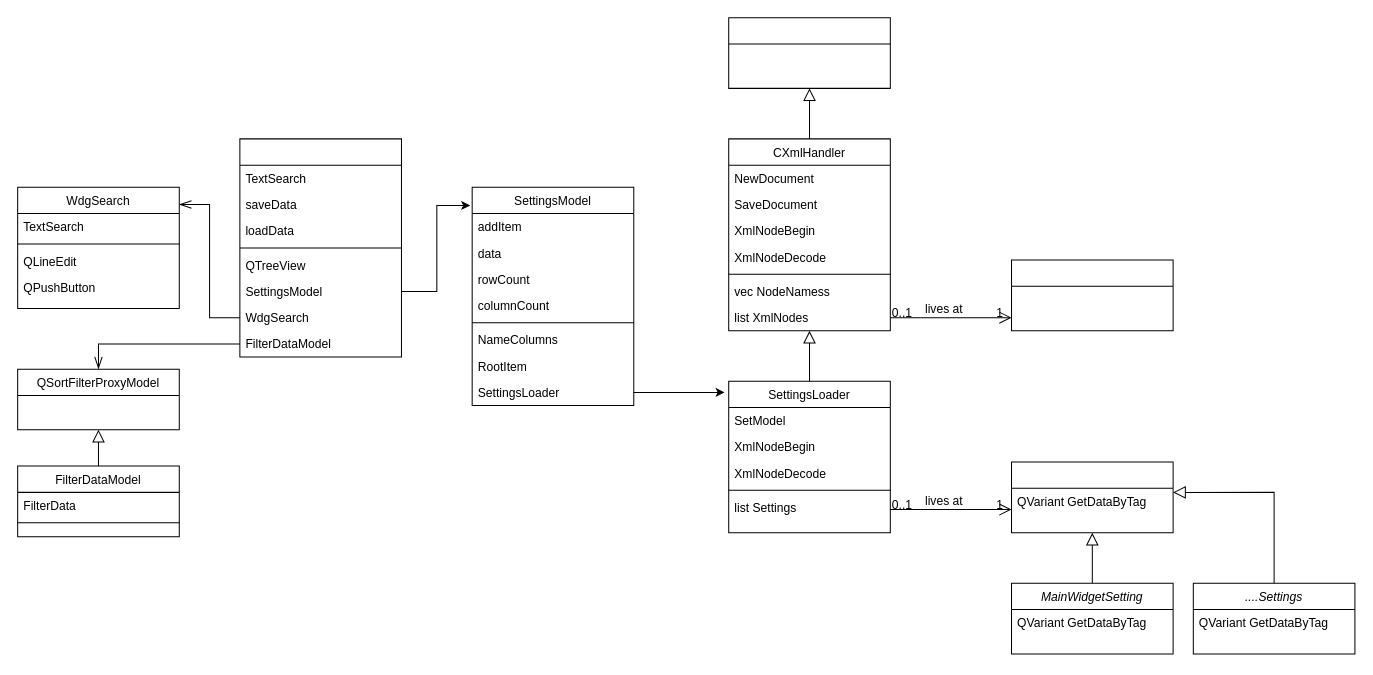
The diagram is 1373 pixels wide and 675 high, and some of its shapes have lost their labels. Here are the shapes that lost their labels. From the top down, the box of each, then its label:
(728, 17, 890, 88): PugiXML
(239, 138, 401, 357): MainWindow
(1011, 259, 1173, 331): CXmlNode
(1011, 461, 1173, 533): IBaseSetting
